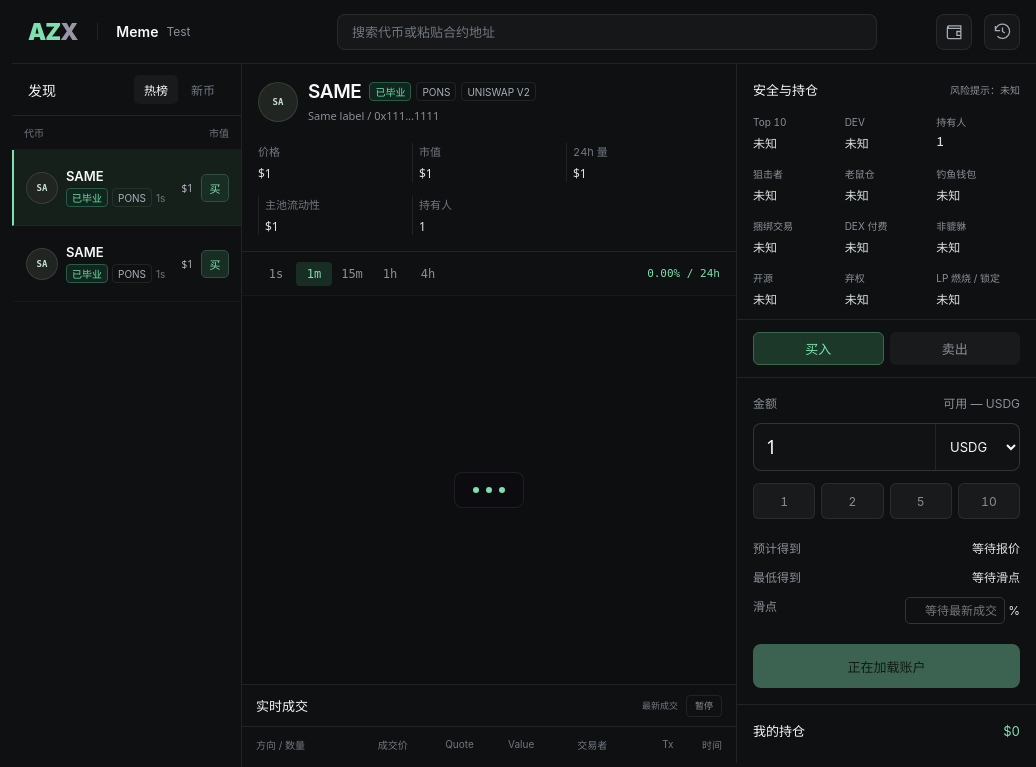
Test case: separates detail failure from loading and retries the selected token
Click the 2nd button with class "token-select": (108, 264) x1=14 y1=226 x2=201 y2=301
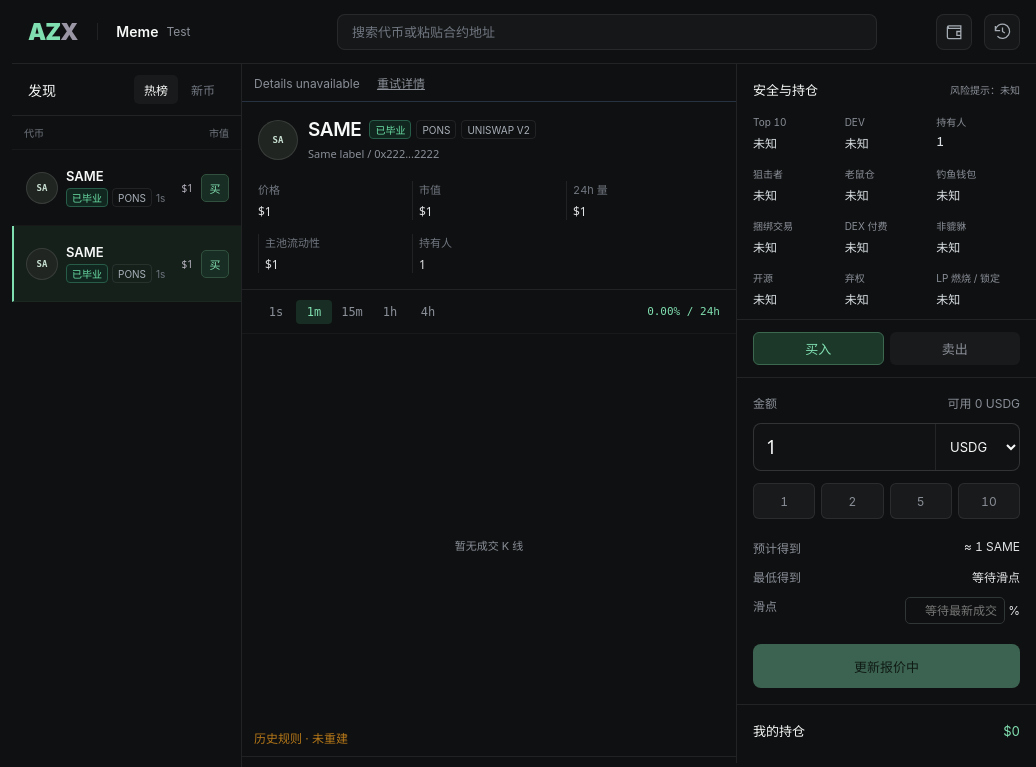
Expected: the text "Details unavailable" is shown, x1=254 y1=76 x2=360 y2=91
Click the button "重试详情": (401, 82) x1=371 y1=73 x2=431 y2=92
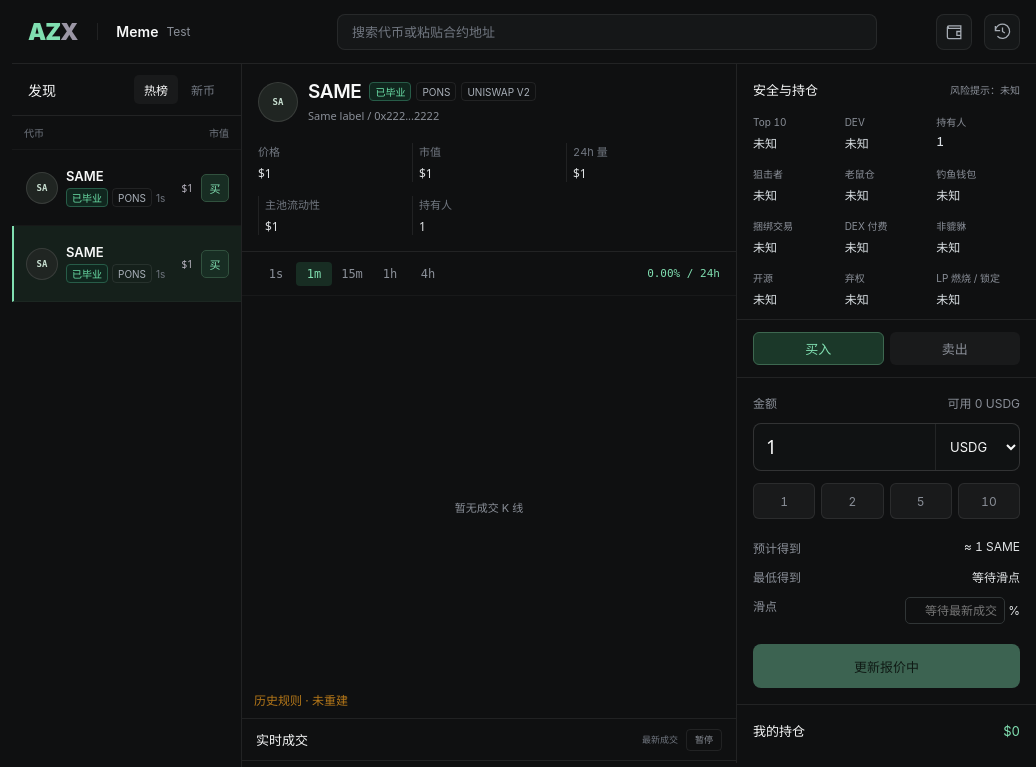
Expected: the text "Details unavailable" is gone
